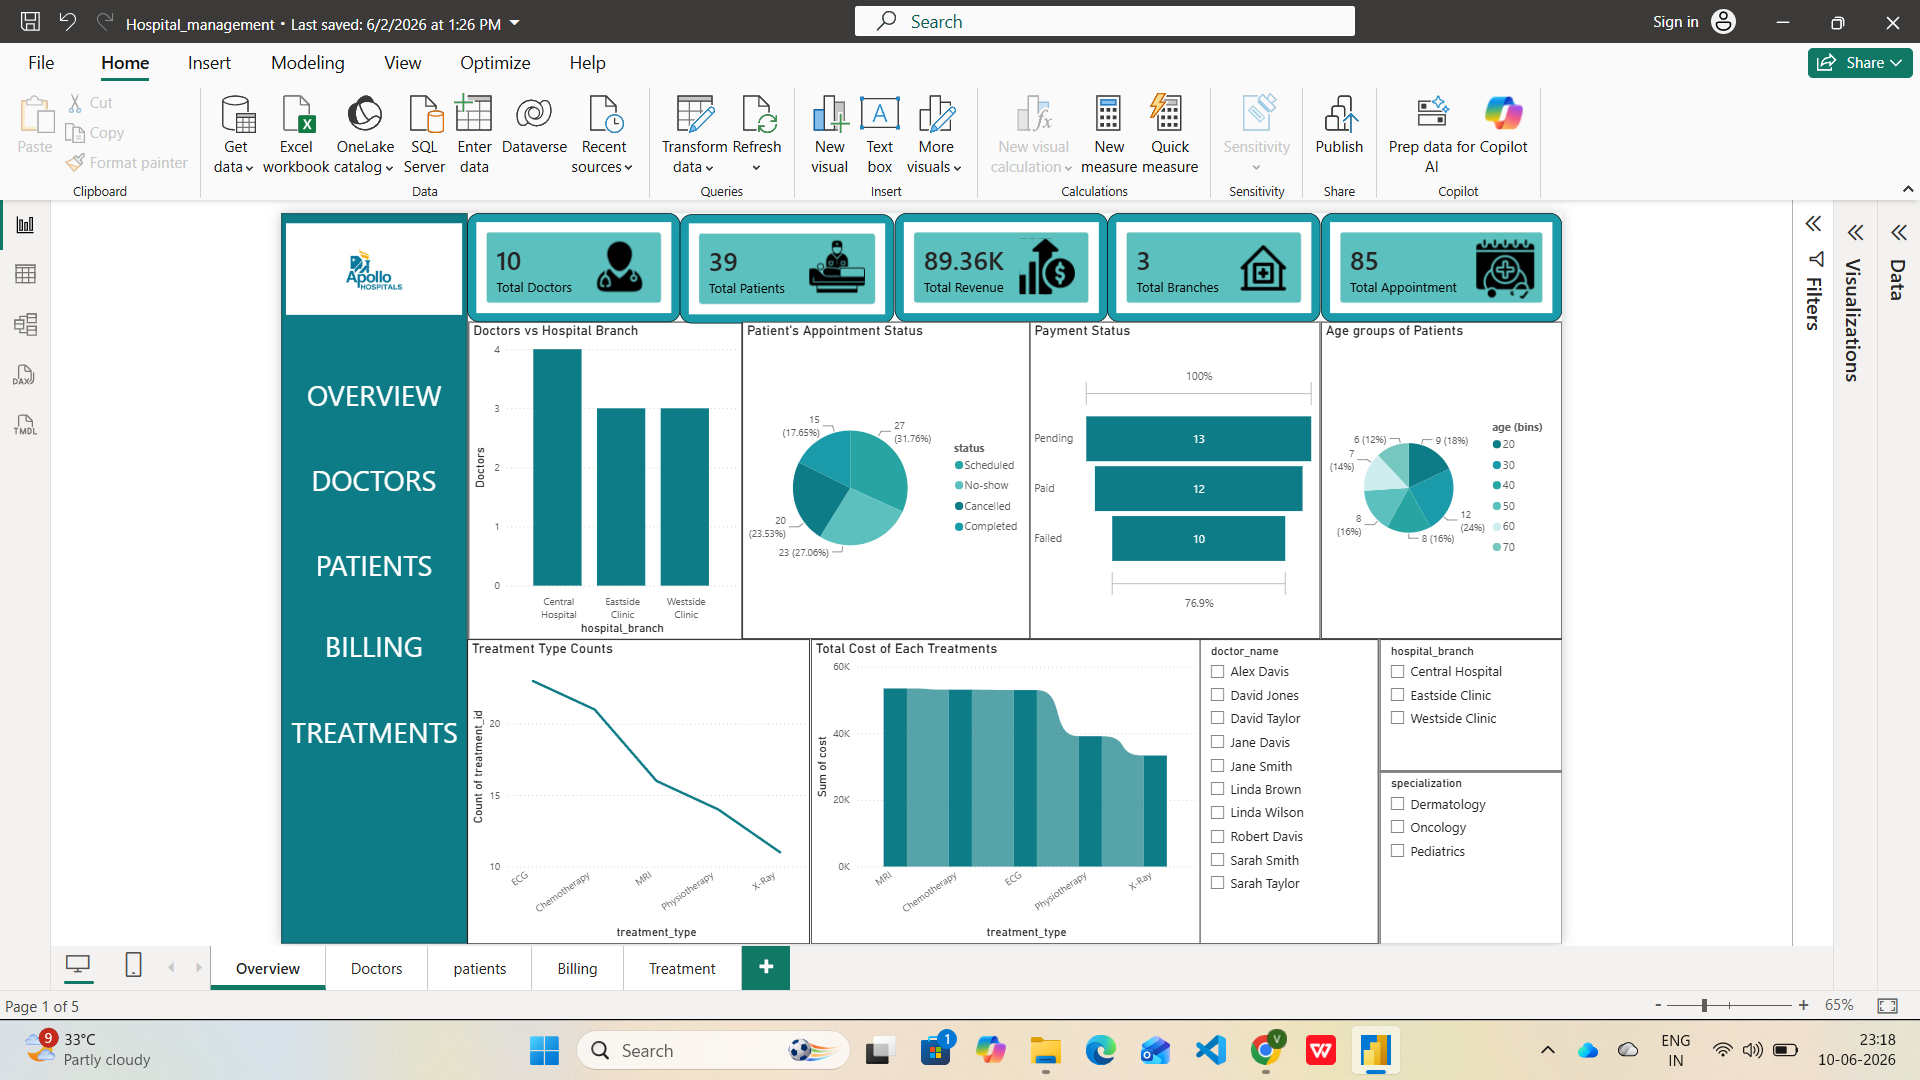

This screenshot's page, from the dashboard's own definition file:
{"tool":"powerbi","page":{"name":"Overview","canvas":[1577,900],"ordinal":0},"visuals":[{"type":"columnChart","title":"Doctors vs Hospital Branch","fields":{"Category":["hosp doctors.hospital_branch"],"Y":["CountNonNull(hosp doctors.doctor_id)"]},"box":[230,134,337,391],"z":0},{"type":"cardVisual","fields":{"Data":["Count(hosp doctors.doctor_id)"]},"box":[229,0,262,134],"z":1000},{"type":"cardVisual","fields":{"Data":["Count(hosp appointments.patient_id)"]},"box":[491,2,264,134],"z":2000},{"type":"cardVisual","fields":{"Data":["Sum(hosp billing.amount)"]},"box":[754.7,0,262.5,134.4],"z":3000},{"type":"cardVisual","fields":{"Data":["Count(hosp doctors.hospital_branch)"]},"box":[1017.2,0,262.5,134.4],"z":4000},{"type":"pieChart","title":"Patient''s Appointment Status","fields":{"Category":["hosp appointments.status"],"Y":["CountNonNull(hosp appointments.status)"]},"box":[567.2,134.4,354.7,390.6],"z":5000},{"type":"lineChart","title":"Treatment Type Counts ","fields":{"Category":["hosp treatments_backup.treatment_type"],"Y":["CountNonNull(hosp treatments_backup.treatment_id)"]},"box":[229.7,525,421.9,375],"z":6000},{"type":"funnel","title":"Payment Status","fields":{"Y":["CountNonNull(hosp billing.payment_status)"],"Category":["hosp billing.payment_status"]},"box":[921.9,134.4,357.8,390.6],"z":7000},{"type":"actionButton","box":[0,0,100,40],"z":8000},{"type":"pieChart","title":"Age groups of  Patients","fields":{"Y":["CountNonNull(hosp patients.age (bins))"],"Series":["hosp patients.age (bins)"]},"box":[1279.7,134.4,296.9,390.6],"z":9000},{"type":"ribbonChart","title":"Total Cost of  Each Treatments","fields":{"Y":["Sum(hosp treatments_backup.cost)"],"Category":["hosp treatments_backup.treatment_type"]},"box":[651.6,525,479.7,375],"z":10000},{"type":"cardVisual","fields":{"Data":["Count(hosp appointments.appointment_id)"]},"box":[1279.7,0,296.9,134.4],"z":11000},{"type":"slicer","fields":{"Values":["hosp doctors.hospital_branch"]},"box":[1351.6,525,225,162.5],"z":12000},{"type":"slicer","fields":{"Values":["hosp doctors.doctor_name"]},"box":[1131.2,525,220.3,375],"z":13000},{"type":"slicer","fields":{"Values":["hosp doctors.specialization"]},"box":[1351.6,687.5,225,212.5],"z":14000},{"type":"actionButton","box":[378.1,28.1,98.4,76.6],"z":15000},{"type":"actionButton","box":[646.9,28.1,98.4,76.6],"z":16000},{"type":"actionButton","box":[904.7,28.1,100,76.6],"z":17000},{"type":"actionButton","box":[1170.3,29.7,90.6,76.6],"z":18000},{"type":"actionButton","box":[1464.1,25,84.4,87.5],"z":19000},{"type":"shape","box":[0,0,229.7,900],"z":20000},{"type":"image","box":[6.8,5.1,216.9,128.8],"z":21000},{"type":"actionButton","box":[0,195.3,229.7,51.6],"z":22000},{"type":"actionButton","box":[0,300,229,51],"z":23000},{"type":"actionButton","box":[0,405.1,229,51],"z":24000},{"type":"actionButton","box":[0,505.1,229,51],"z":25000},{"type":"actionButton","box":[0,610.2,230.5,52.5],"z":26000}]}

Visuals, with their boxes on the page's 1577x900 design canvas (x1, y1, x2, y2). These are canvas units, not pixel positions in the 1920x1080 screenshot, which may show the page scaled, cropped or inside an application window:
"Doctors vs Hospital Branch" columnChart: pyautogui.locateOnScreen(230, 134, 567, 525)
cardVisual - Count(hosp doctors.doctor_id): pyautogui.locateOnScreen(229, 0, 491, 134)
cardVisual - Count(hosp appointments.patient_id): pyautogui.locateOnScreen(491, 2, 755, 136)
cardVisual - Sum(hosp billing.amount): pyautogui.locateOnScreen(755, 0, 1017, 134)
cardVisual - Count(hosp doctors.hospital_branch): pyautogui.locateOnScreen(1017, 0, 1280, 134)
"Patient''s Appointment Status" pieChart: pyautogui.locateOnScreen(567, 134, 922, 525)
"Treatment Type Counts " lineChart: pyautogui.locateOnScreen(230, 525, 652, 900)
"Payment Status" funnel: pyautogui.locateOnScreen(922, 134, 1280, 525)
actionButton: pyautogui.locateOnScreen(0, 0, 100, 40)
"Age groups of  Patients" pieChart: pyautogui.locateOnScreen(1280, 134, 1577, 525)
"Total Cost of  Each Treatments" ribbonChart: pyautogui.locateOnScreen(652, 525, 1131, 900)
cardVisual - Count(hosp appointments.appointment_id): pyautogui.locateOnScreen(1280, 0, 1577, 134)
slicer - hosp doctors.hospital_branch: pyautogui.locateOnScreen(1352, 525, 1577, 688)
slicer - hosp doctors.doctor_name: pyautogui.locateOnScreen(1131, 525, 1352, 900)
slicer - hosp doctors.specialization: pyautogui.locateOnScreen(1352, 688, 1577, 900)
actionButton: pyautogui.locateOnScreen(378, 28, 476, 105)
actionButton: pyautogui.locateOnScreen(647, 28, 745, 105)
actionButton: pyautogui.locateOnScreen(905, 28, 1005, 105)
actionButton: pyautogui.locateOnScreen(1170, 30, 1261, 106)
actionButton: pyautogui.locateOnScreen(1464, 25, 1548, 112)
shape: pyautogui.locateOnScreen(0, 0, 230, 900)
image: pyautogui.locateOnScreen(7, 5, 224, 134)
actionButton: pyautogui.locateOnScreen(0, 195, 230, 247)
actionButton: pyautogui.locateOnScreen(0, 300, 229, 351)
actionButton: pyautogui.locateOnScreen(0, 405, 229, 456)
actionButton: pyautogui.locateOnScreen(0, 505, 229, 556)
actionButton: pyautogui.locateOnScreen(0, 610, 230, 663)
